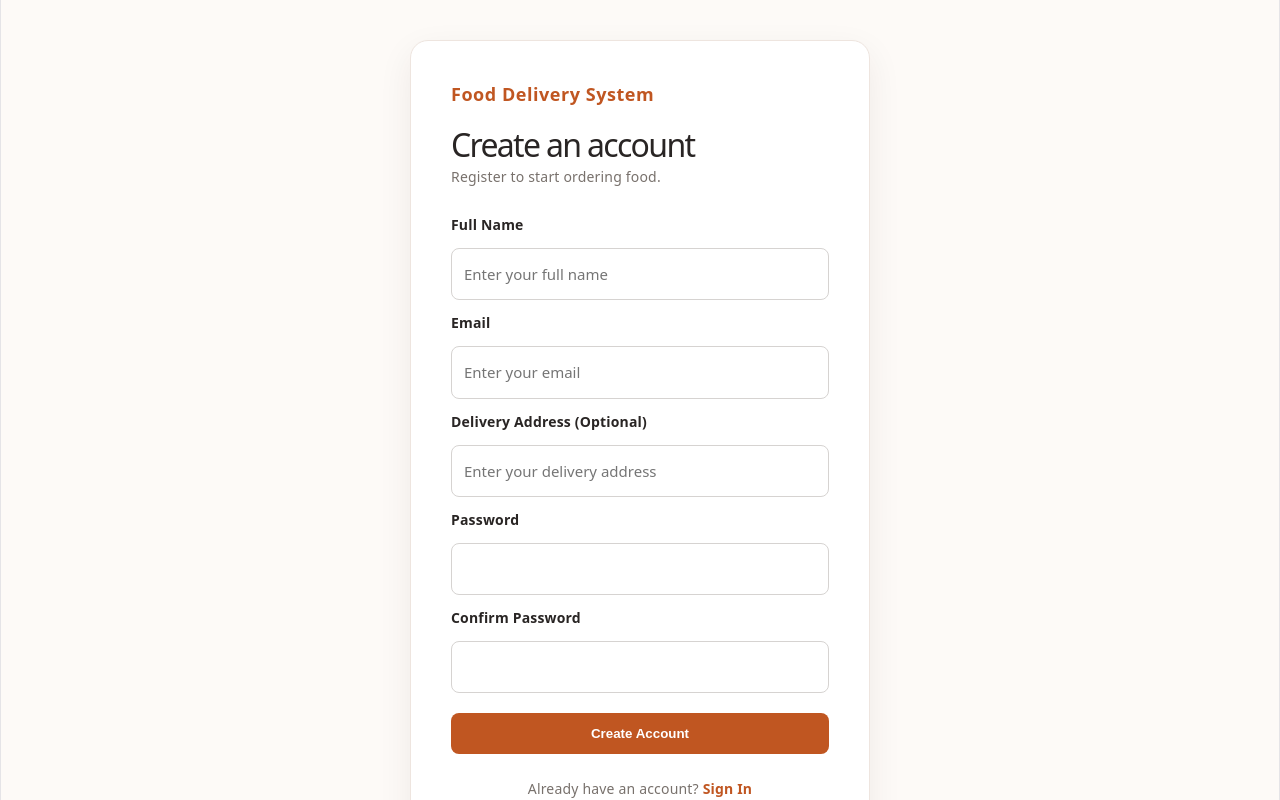
Authentication › registers a customer and redirects to login
Step 1. Type "Test Customer" into the field labelled "Full Name" → coordinates (640, 274), box [451, 248, 829, 300]
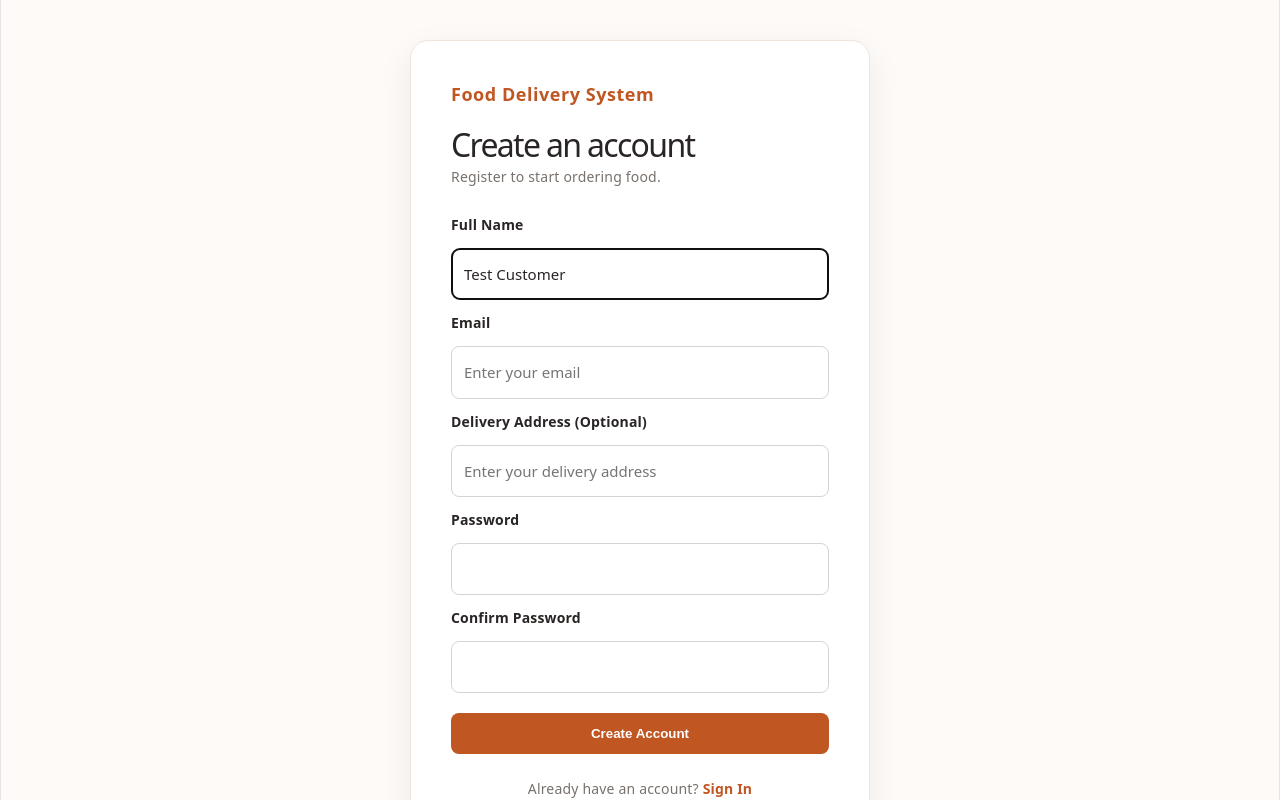
Step 2. Type "customer@example.com" into the field labelled "Email" → coordinates (640, 373), box [451, 346, 829, 399]
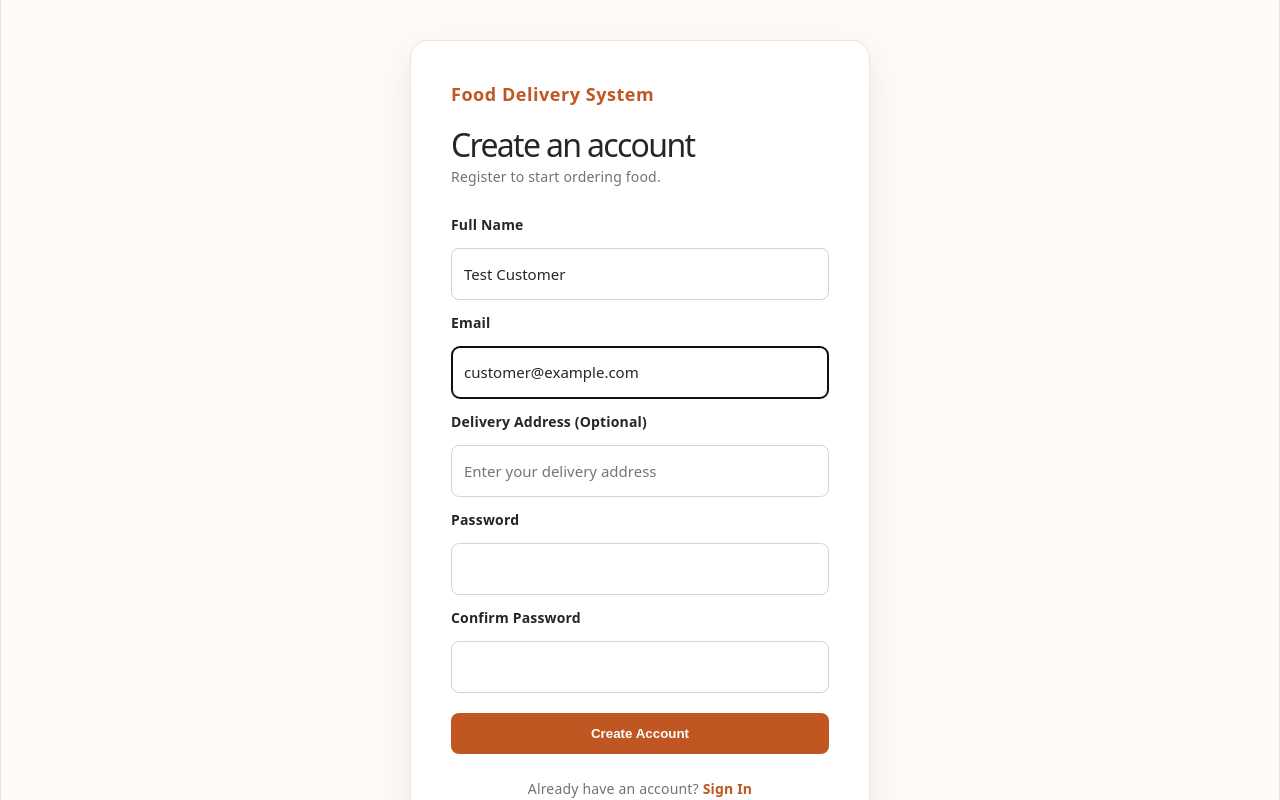
Step 3. Type "123 Main Street" into the field labelled "Delivery Address (Optional)" → coordinates (640, 471), box [451, 445, 829, 497]
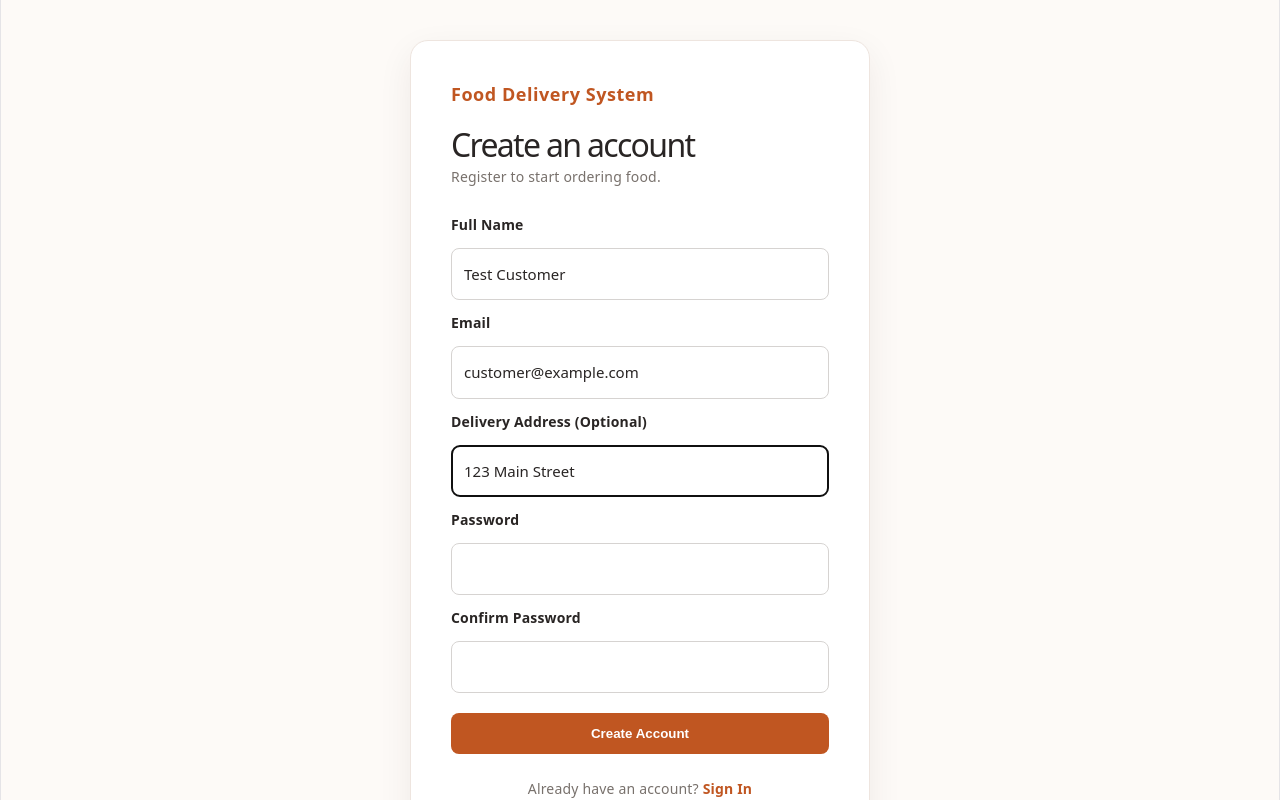
Step 4. Type "password123" into the password field labelled "Password" → coordinates (640, 569), box [451, 543, 829, 595]
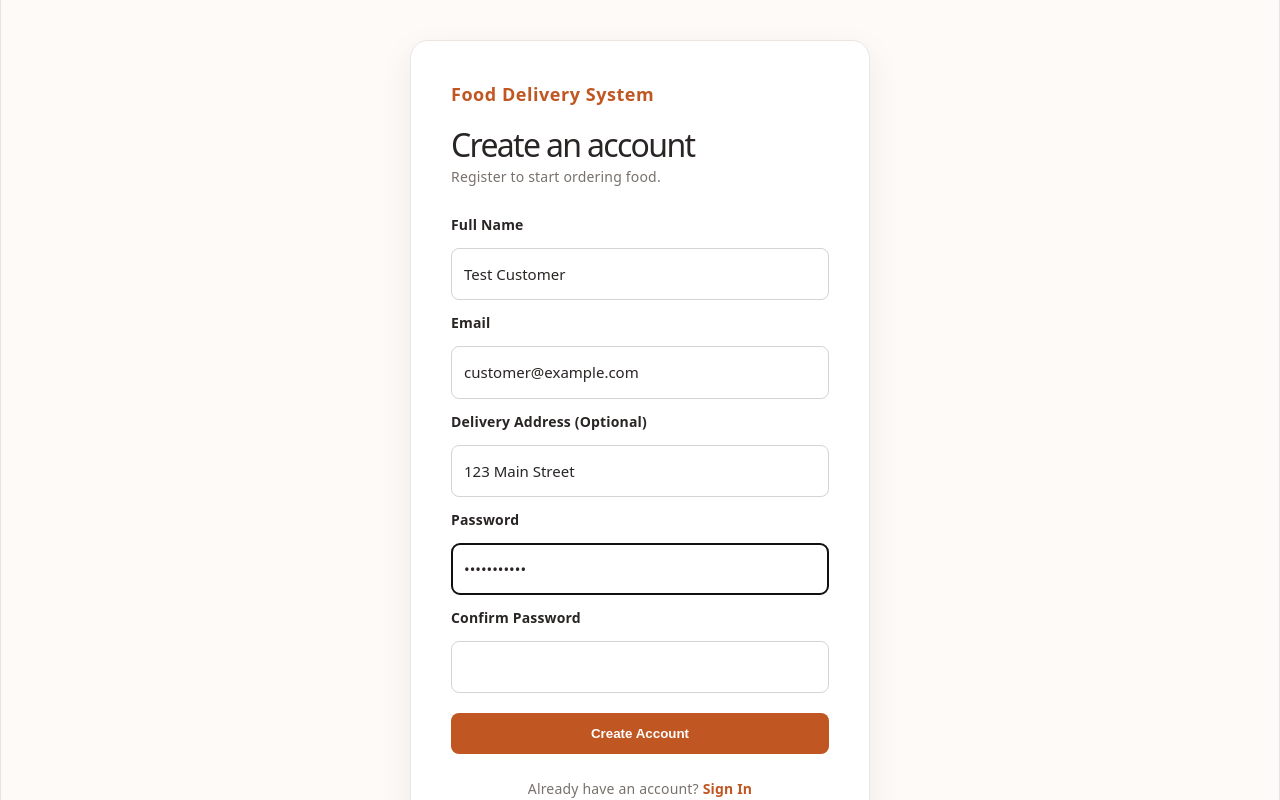
Step 5. Type "password123" into the password field labelled "Confirm Password" → coordinates (640, 667), box [451, 641, 829, 693]
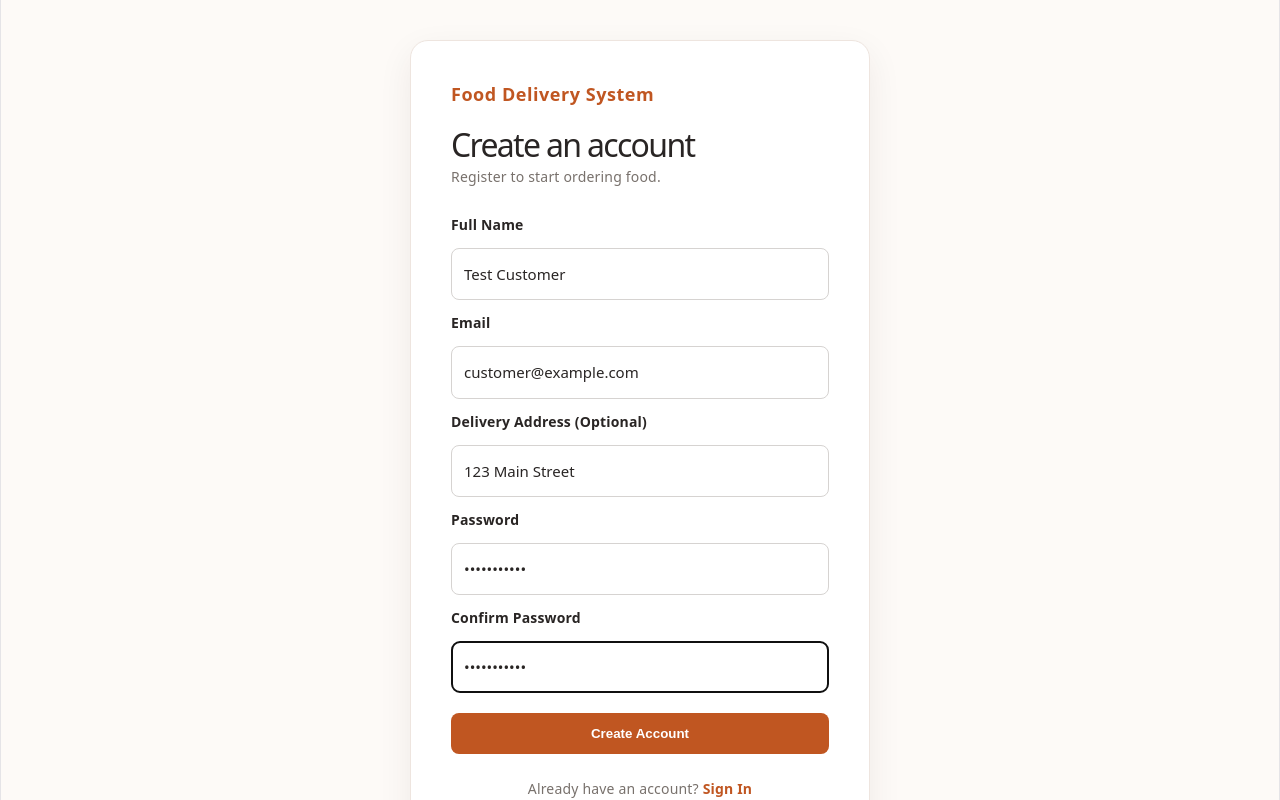
Step 6. Click the button "Create Account" → coordinates (640, 734), box [451, 713, 829, 754]
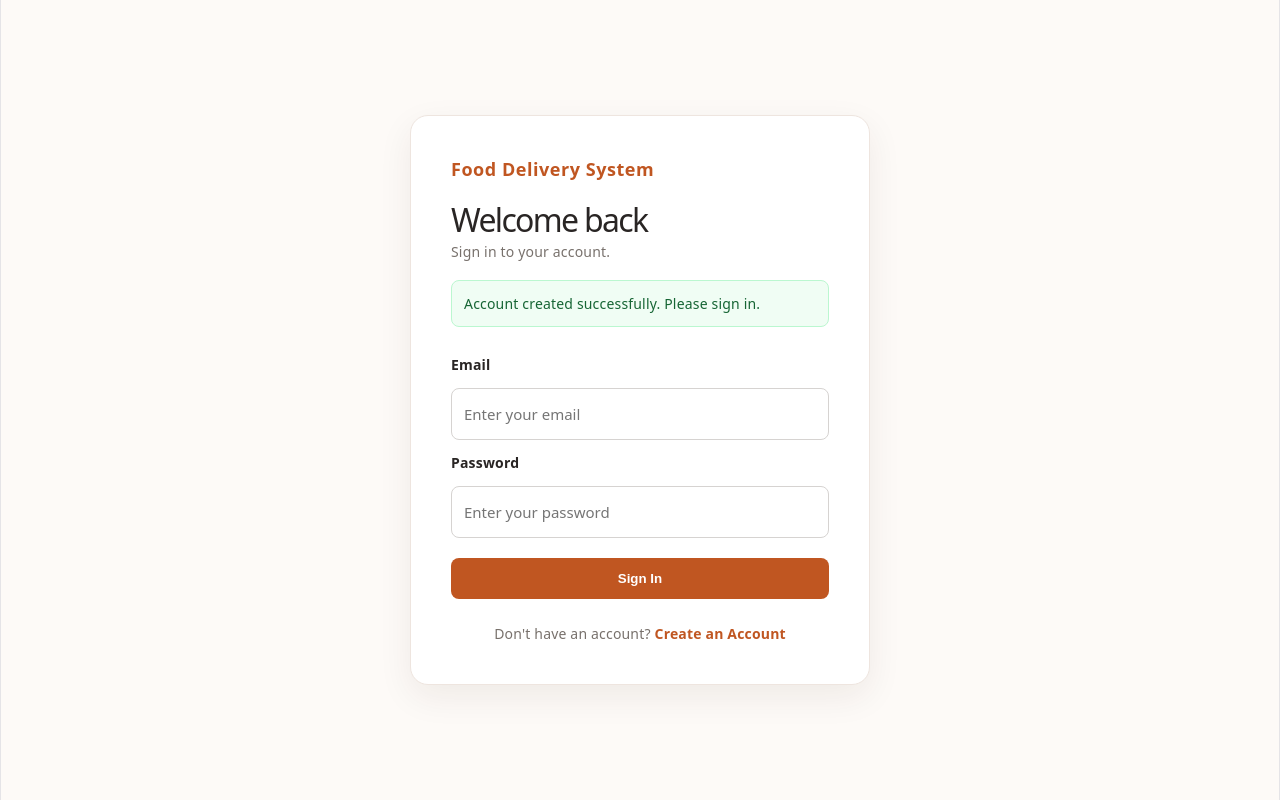
Result: the text "Account created successfully. Please sign in." is shown at [451, 280, 829, 327]
